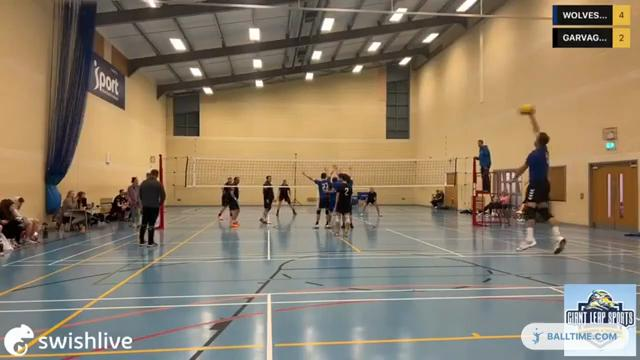Player: (302, 172, 330, 228), (334, 173, 351, 233), (276, 179, 296, 216), (334, 165, 352, 203), (260, 176, 274, 223), (218, 177, 232, 220), (362, 187, 381, 216), (228, 177, 239, 227), (329, 176, 339, 223)
Serve: (504, 105, 571, 258)
ball: (518, 102, 534, 118)
